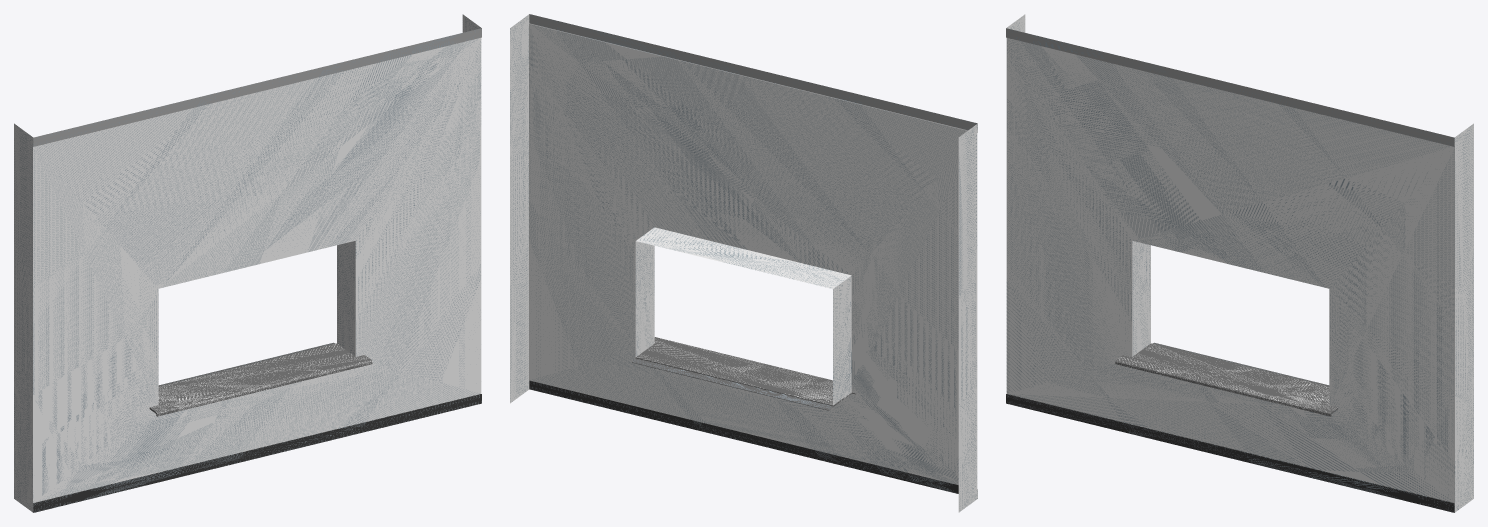
File: WindowBlock_os_plinth_[500x400]_220x124x[080].dae
The picture shows the model from 3 angles, left to right: view 1: azimuth 30°, elevation 25°; view 2: azimuth 150°, elevation 25°; view 3: azimuth 330°, elevation 25°; orthographic projection.
Parts seen in each view (by area): view 1: group_2 (×4), group_1; view 2: group_2 (×4), group_1 (×2); view 3: group_2 (×4), group_1.
Boxes of the visible parts, x1,y1,x2,y2 form: group_2 (×4): [14, 14, 481, 512]; group_1: [149, 343, 372, 416]; group_2 (×4): [510, 14, 977, 512]; group_1 (×2): [632, 337, 855, 410]; group_2 (×4): [1006, 14, 1473, 512]; group_1: [1115, 343, 1337, 416].
Bounding box in the file's own units: 197 × 23.03 × 157.
